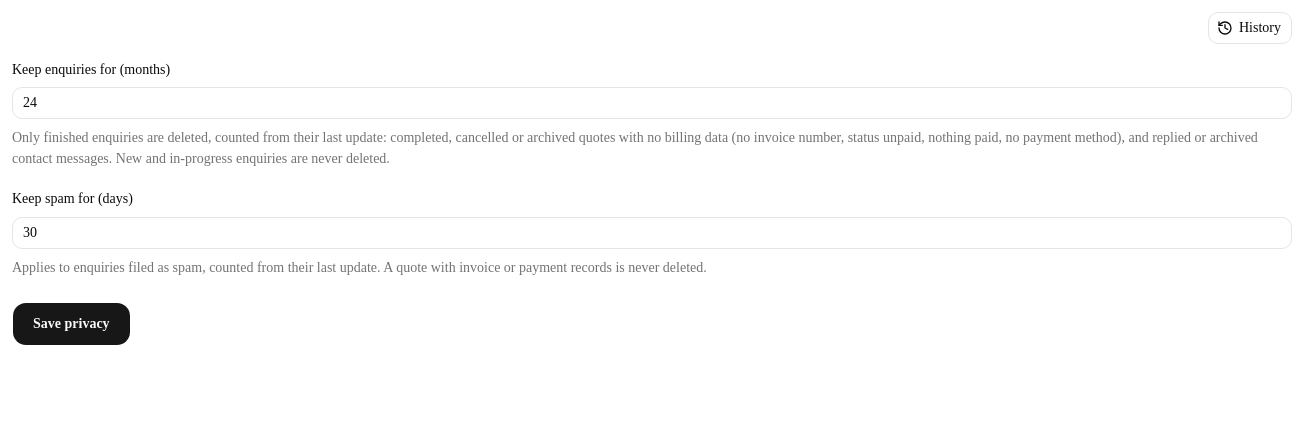
Test: GlobalForm › clears the conflict message on the next submit
Expected: the number field labelled "Keep enquiries for (months)" is shown, [12,87,1292,119]
Click the button "Save privacy".
click(71, 324)  # box [12,302,131,346]
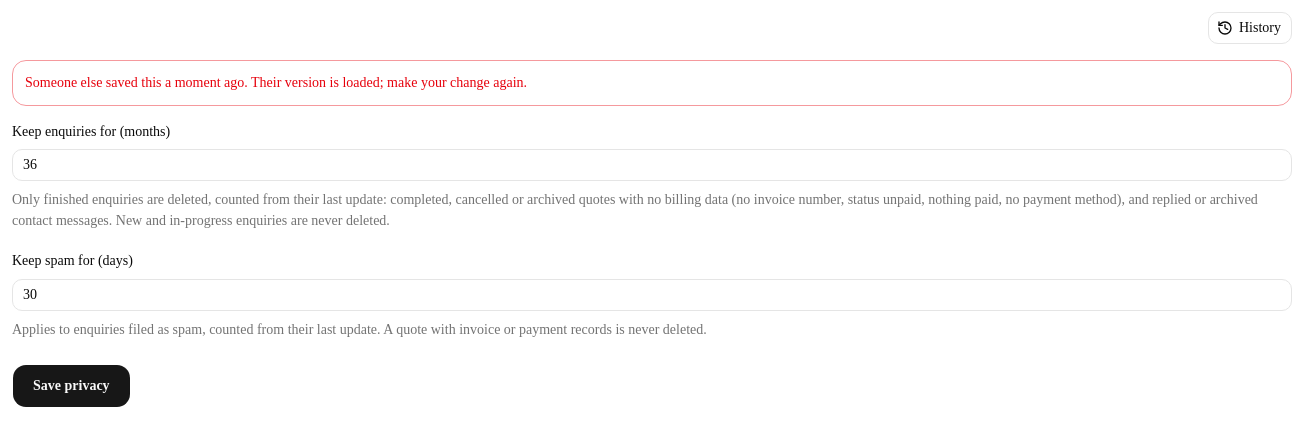
Now the text "Someone else saved this a moment ago. Their version is loaded; make your change again." is shown, box [25,75,527,90]
Click the button "Save privacy".
click(71, 386)  # box [12,364,131,408]
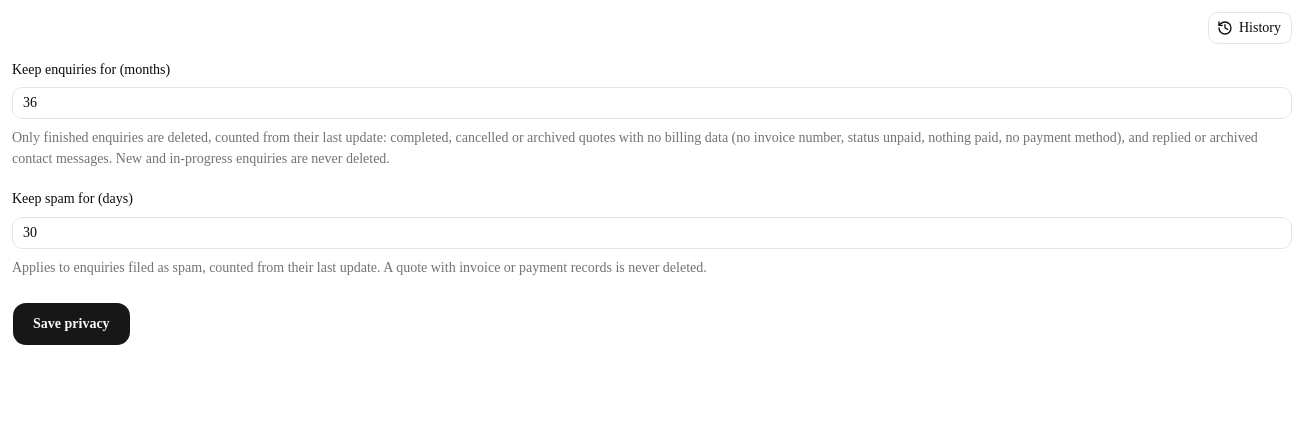
Now the text "Someone else saved this a moment ago. Their version is loaded; make your change again." is gone
